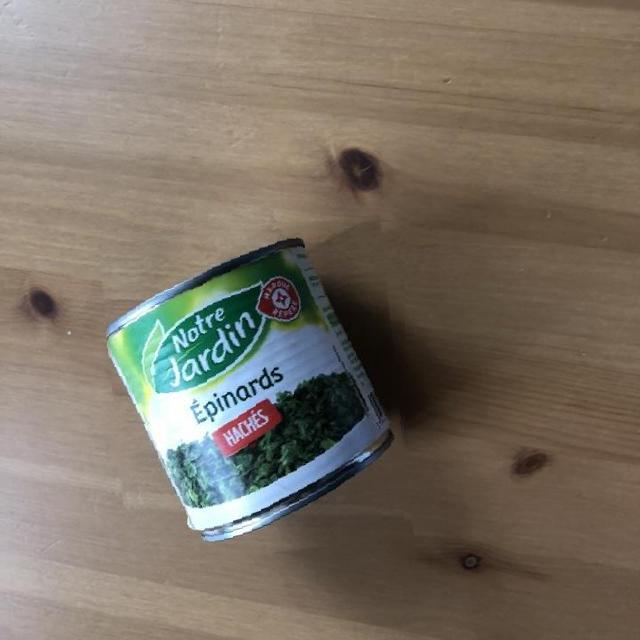recyclable: (106, 222, 406, 563)
